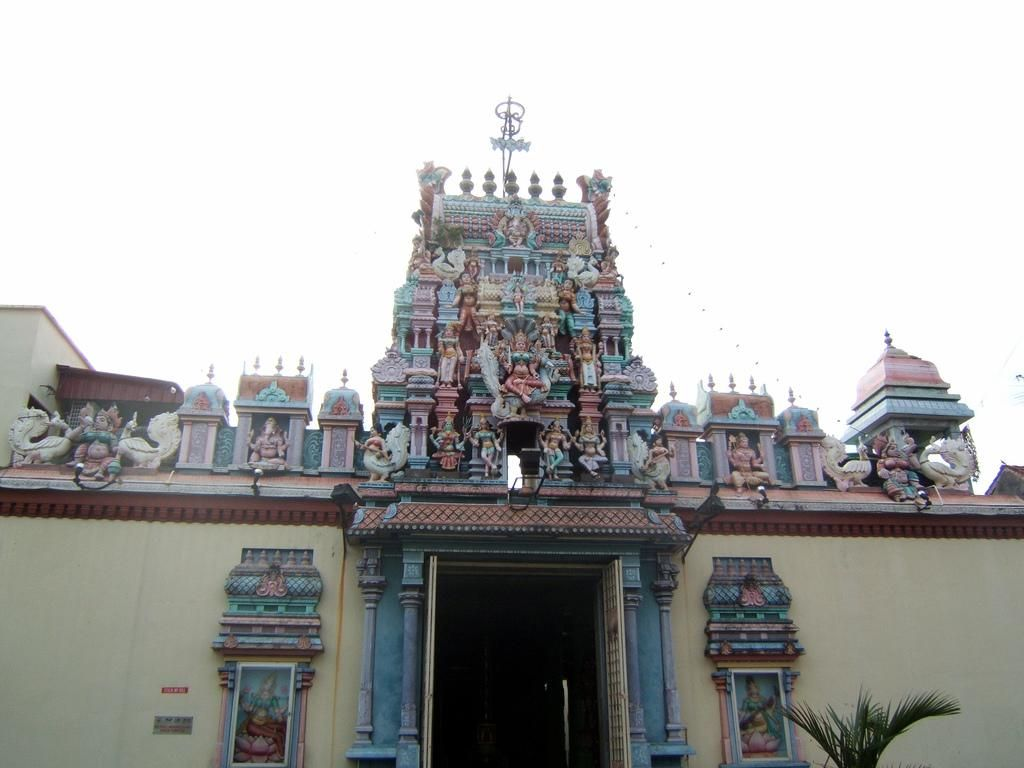Hindu Temple: (292, 101, 687, 712)
